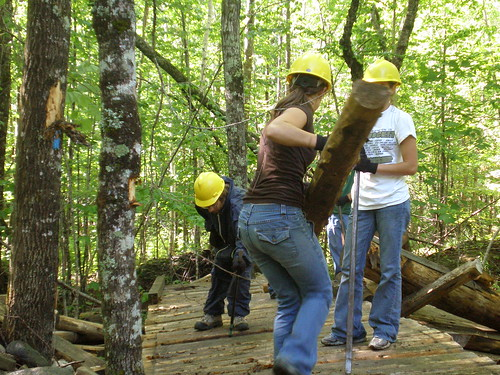person hardhat: (286, 53, 332, 111), (362, 58, 401, 111), (194, 172, 225, 214)
